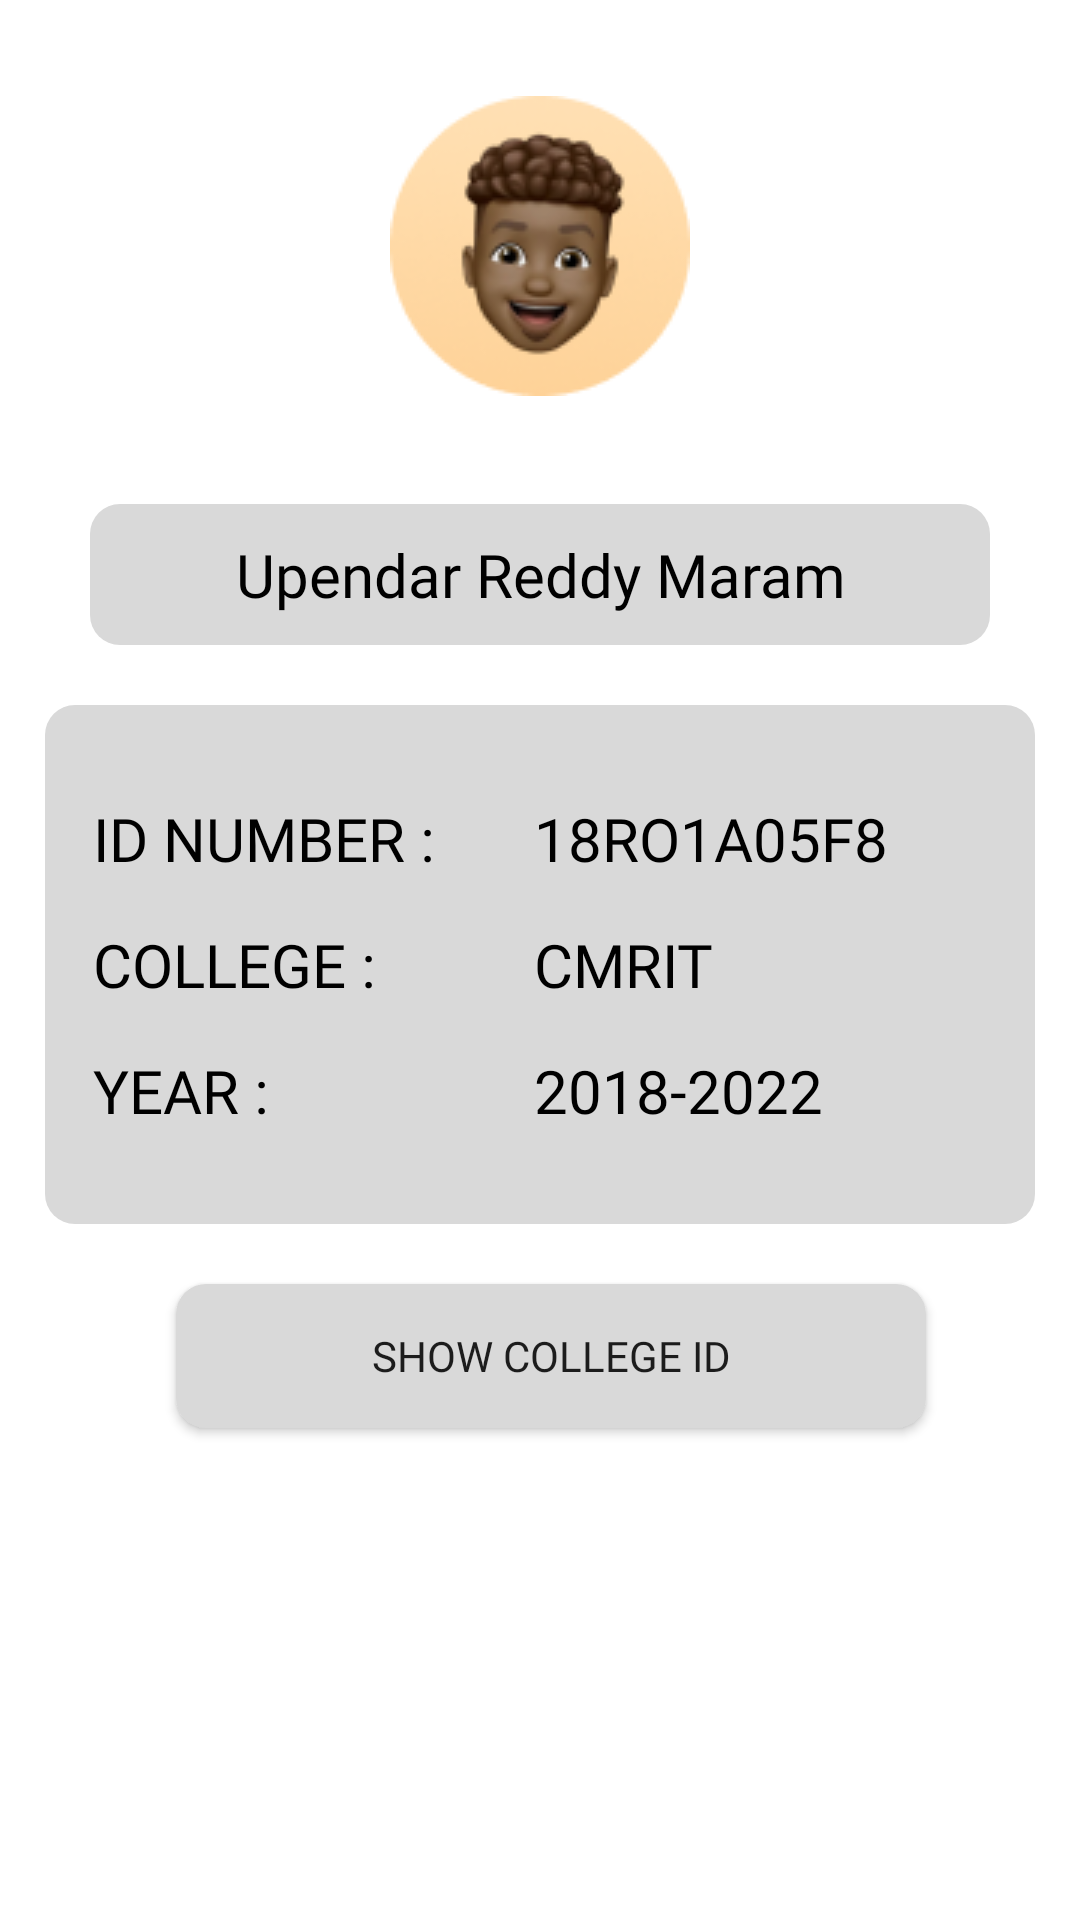

Named icons in this screenshot (1080*1920) and their centers, (x=x, y=y):
user: (x=540, y=246)
